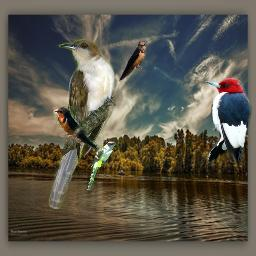Cuckoo: (48, 39, 116, 209), (87, 141, 119, 190)
Swallow: (53, 106, 101, 153), (119, 41, 146, 82)
Woodpecker: (205, 75, 252, 167)
